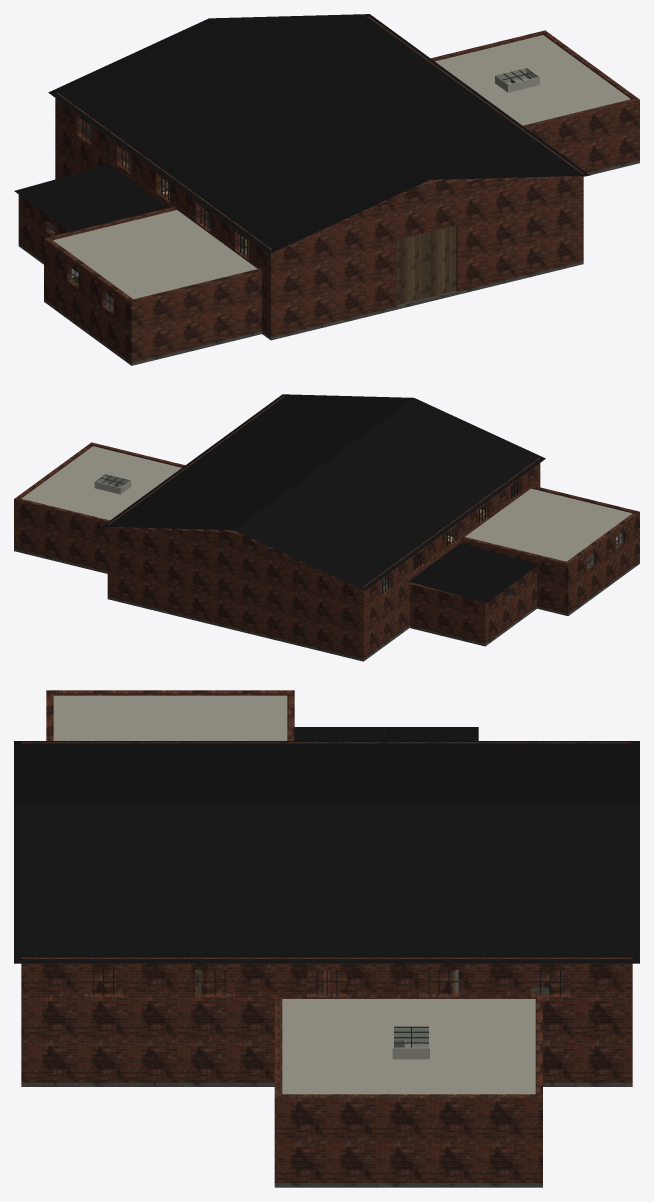
File: black-archive.glb
The picture shows the model from 3 angles, top to bottom: view 1: azimuth 30°, elevation 25°; view 2: azimuth 150°, elevation 25°; view 3: azimuth 270°, elevation 25°; orthographic projection. The views are drawn at different scales.
Visible parts, largest first — view 1: Mesh_roof, Mesh_brick, Mesh_plaster, Mesh_timber, Mesh_concrete, Mesh_iron22, Mesh_plaster2, Mesh_glass9; view 2: Mesh_roof, Mesh_brick, Mesh_plaster, Mesh_concrete, Mesh_iron22, Mesh_plaster2, Mesh_glass9; view 3: Mesh_roof, Mesh_brick, Mesh_plaster, Mesh_concrete, Mesh_iron22, Mesh_plaster2, Mesh_glass9.
Part boxes in pixels (x1=…): Mesh_roof: x1=14, y1=14, x2=590, y2=253; Mesh_brick: x1=18, y1=16, x2=639, y2=362; Mesh_plaster: x1=53, y1=35, x2=630, y2=309; Mesh_timber: x1=107, y1=225, x2=456, y2=309; Mesh_concrete: x1=18, y1=160, x2=639, y2=365; Mesh_iron22: x1=69, y1=68, x2=538, y2=309; Mesh_plaster2: x1=495, y1=67, x2=539, y2=92; Mesh_glass9: x1=69, y1=68, x2=537, y2=311; Mesh_roof: x1=102, y1=394, x2=545, y2=603; Mesh_brick: x1=14, y1=396, x2=639, y2=658; Mesh_plaster: x1=21, y1=446, x2=632, y2=566; Mesh_concrete: x1=14, y1=548, x2=639, y2=661; Mesh_iron22: x1=96, y1=474, x2=623, y2=593; Mesh_plaster2: x1=94, y1=474, x2=131, y2=494; Mesh_glass9: x1=96, y1=474, x2=623, y2=568; Mesh_roof: x1=14, y1=727, x2=639, y2=963; Mesh_brick: x1=21, y1=690, x2=632, y2=1183; Mesh_plaster: x1=53, y1=695, x2=535, y2=1094; Mesh_concrete: x1=21, y1=970, x2=632, y2=1187; Mesh_iron22: x1=83, y1=970, x2=570, y2=1047; Mesh_plaster2: x1=392, y1=1026, x2=429, y2=1059; Mesh_glass9: x1=394, y1=1027, x2=428, y2=1047.
Size of the model in its own units: 38.8 by 7.82 by 25.2.
Materials: 96 (41 with a texture image).
